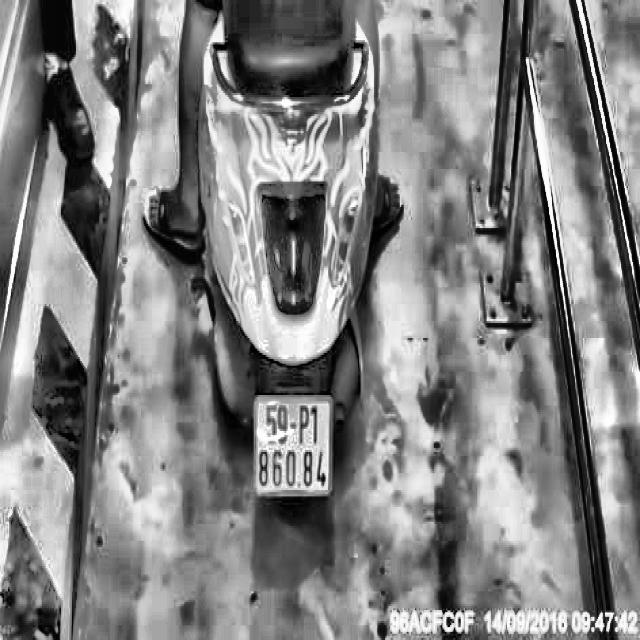plate: (247, 384, 341, 505)
